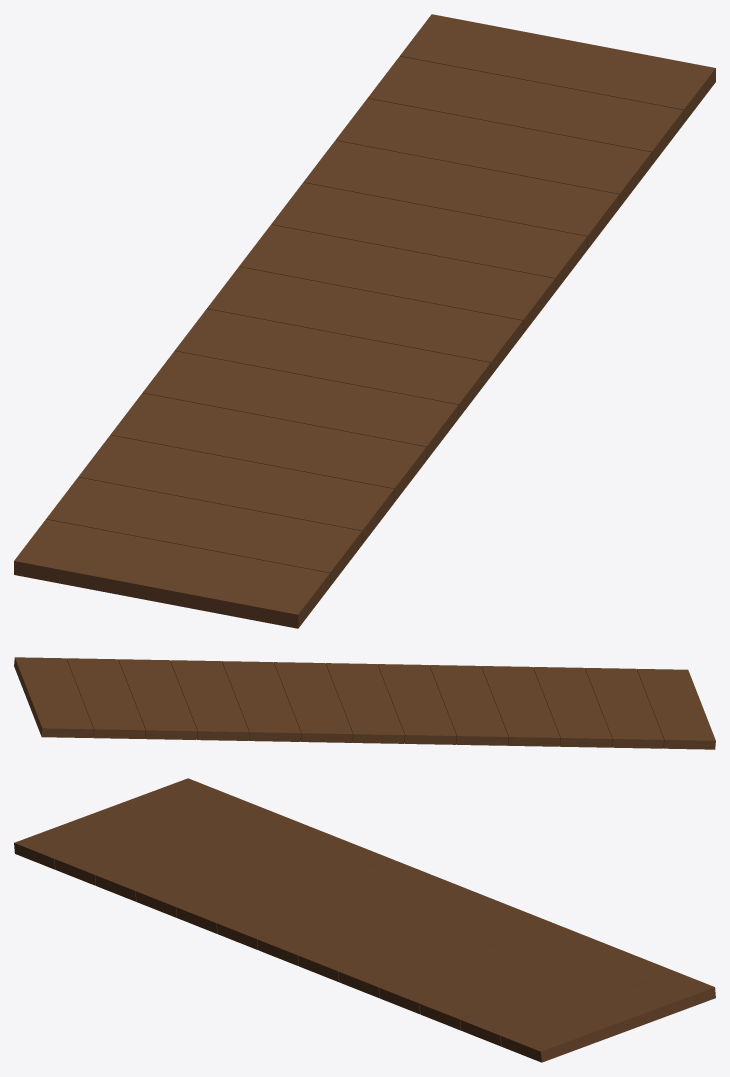
Rendered from wooden_plate.fbx.
3 renders of one model, top to bottom at view 1: azimuth 30°, elevation 25°; view 2: azimuth 150°, elevation 25°; view 3: azimuth 270°, elevation 25°, orthographic. The views are drawn at different scales.
Parts seen in each view (by area): view 1: wooden plate; view 2: wooden plate; view 3: wooden plate.
Part boxes in pixels (x1,y1,x2,y2): wooden plate: (14,14,715,628); wooden plate: (14,657,715,749); wooden plate: (14,778,715,1062).
Bounding box in the file's own units: 9.14 × 1.08 × 8.03.
